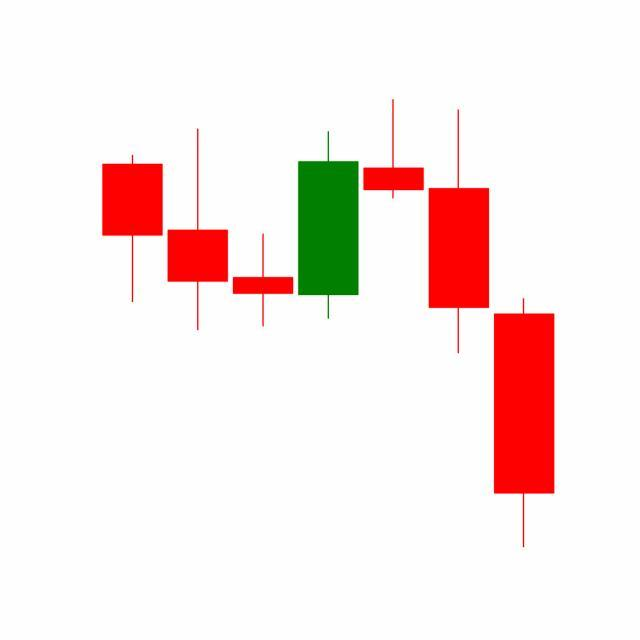Three Inside Up-Down: (295, 100, 492, 358)
